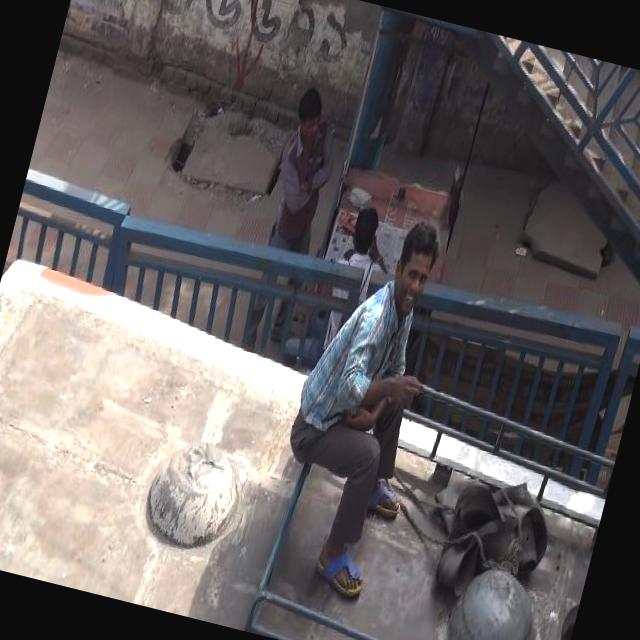bus: (0, 237, 631, 640)
